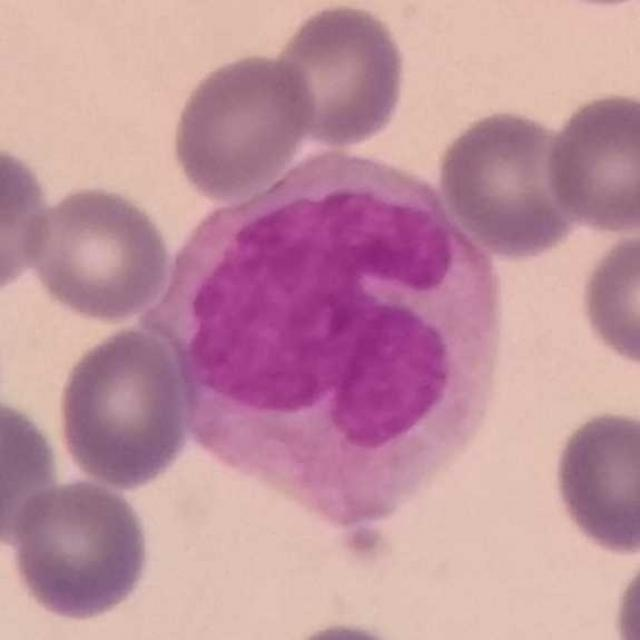mono: (139, 145, 507, 528)
